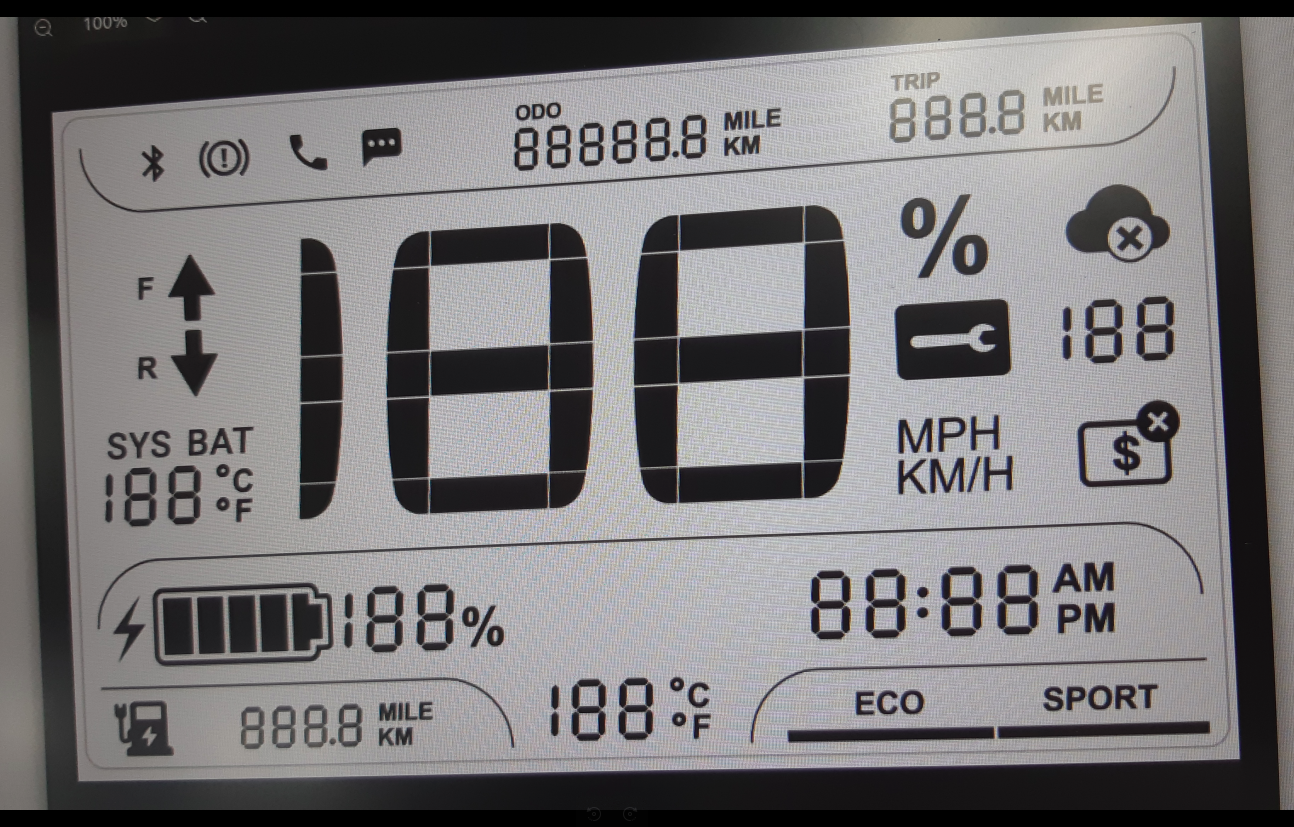bluetooth_on: (135, 139, 172, 188)
braking_on: (193, 134, 257, 181)
calling_on: (283, 128, 335, 178)
connection_lost: (1059, 179, 1179, 269)
error_code: (890, 292, 1017, 383)
low_battery: (110, 695, 180, 761)
sms_on: (356, 122, 405, 170)
vin_id: (1072, 396, 1185, 492)
